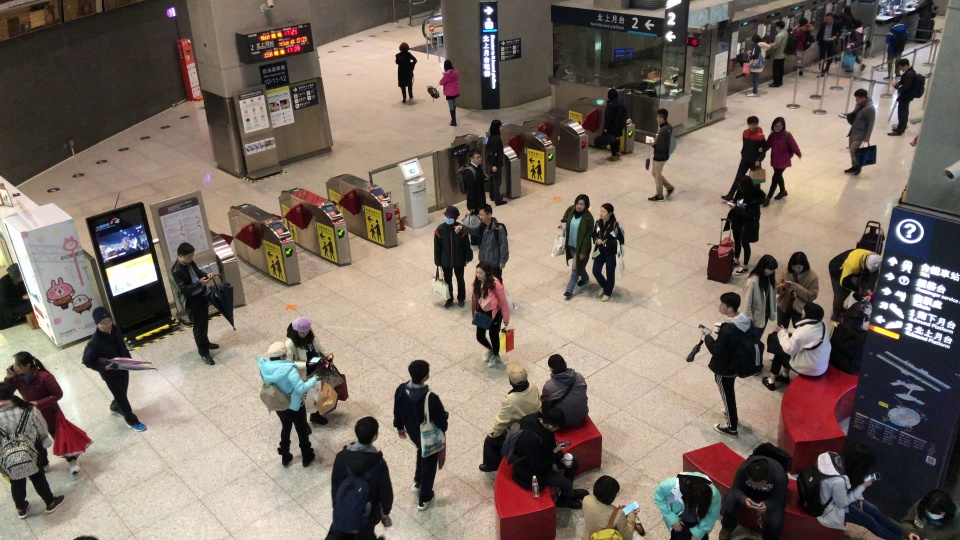person_head: (843, 443, 876, 477), (592, 474, 620, 505), (923, 491, 950, 522), (354, 416, 379, 446), (407, 358, 431, 385), (688, 482, 711, 510), (746, 460, 768, 488), (717, 291, 741, 315), (542, 407, 565, 432), (91, 306, 113, 332), (506, 362, 528, 388), (11, 351, 33, 374), (789, 251, 810, 274), (800, 302, 825, 321), (547, 354, 567, 373), (177, 242, 195, 263), (269, 341, 288, 360), (763, 254, 779, 276), (443, 205, 460, 225), (475, 261, 491, 282), (866, 252, 882, 272), (6, 262, 22, 282), (574, 193, 591, 211), (599, 202, 615, 220), (297, 319, 312, 338), (478, 204, 492, 223), (770, 116, 786, 132), (737, 176, 753, 192), (467, 148, 482, 165), (654, 108, 669, 125), (853, 87, 868, 104), (0, 382, 14, 399), (489, 119, 503, 134), (746, 114, 759, 130), (897, 57, 910, 72), (606, 87, 619, 99), (442, 58, 453, 70), (774, 20, 786, 31), (398, 41, 409, 52), (751, 33, 762, 44), (798, 16, 808, 26), (843, 4, 852, 15), (825, 13, 833, 22), (854, 20, 861, 28), (895, 15, 902, 23)
person_vbox: (795, 442, 901, 540), (3, 351, 82, 475), (699, 291, 764, 438), (500, 405, 590, 511), (392, 359, 449, 511), (80, 307, 148, 431), (0, 382, 65, 509), (330, 416, 394, 540), (255, 341, 317, 468), (718, 441, 792, 539), (478, 361, 541, 474), (167, 242, 220, 366), (761, 302, 832, 391), (284, 317, 334, 426), (652, 471, 722, 540), (454, 204, 509, 290), (722, 175, 766, 276), (581, 474, 647, 540), (470, 262, 511, 368), (741, 253, 776, 377), (432, 205, 473, 310), (827, 246, 882, 322), (719, 115, 766, 201), (539, 354, 589, 432), (760, 116, 802, 208), (559, 193, 594, 299), (774, 250, 820, 329), (591, 202, 625, 303), (456, 148, 489, 247), (899, 488, 959, 540), (886, 58, 925, 136), (842, 88, 876, 177), (647, 108, 676, 201), (484, 118, 509, 206), (0, 262, 32, 330), (766, 20, 796, 90), (601, 87, 628, 161), (881, 14, 909, 80), (744, 34, 770, 96), (791, 16, 817, 77), (843, 19, 870, 76), (438, 60, 460, 128), (815, 12, 838, 77), (394, 41, 417, 102), (838, 4, 854, 54)
